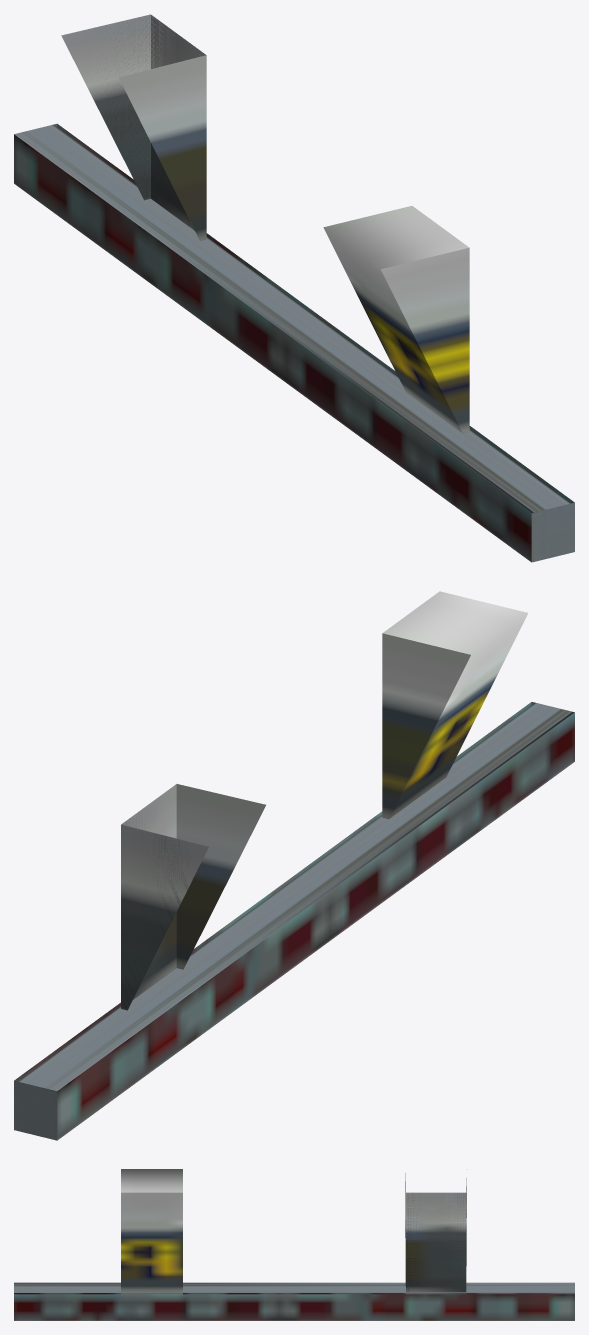
The model's file is Shared - Armor - Tanker Truck - Damage State 26 - CVTanker_d26.glb.
3 views of the same model, one above another, from view 1: azimuth 30°, elevation 25°; view 2: azimuth 150°, elevation 25°; view 3: azimuth 270°, elevation 25° (orthographic). The views are drawn at different scales.
Visible parts, largest first — view 1: CVTANKER_D26; view 2: CVTANKER_D26; view 3: CVTANKER_D26.
Part boxes in pixels (x1,y1,x2,y2): CVTANKER_D26: [14, 14, 574, 562]; CVTANKER_D26: [14, 591, 574, 1140]; CVTANKER_D26: [14, 1169, 574, 1320].
Size of the model in its own units: 1.2 by 2.8 by 11.26.
1 material, 1 textured.
